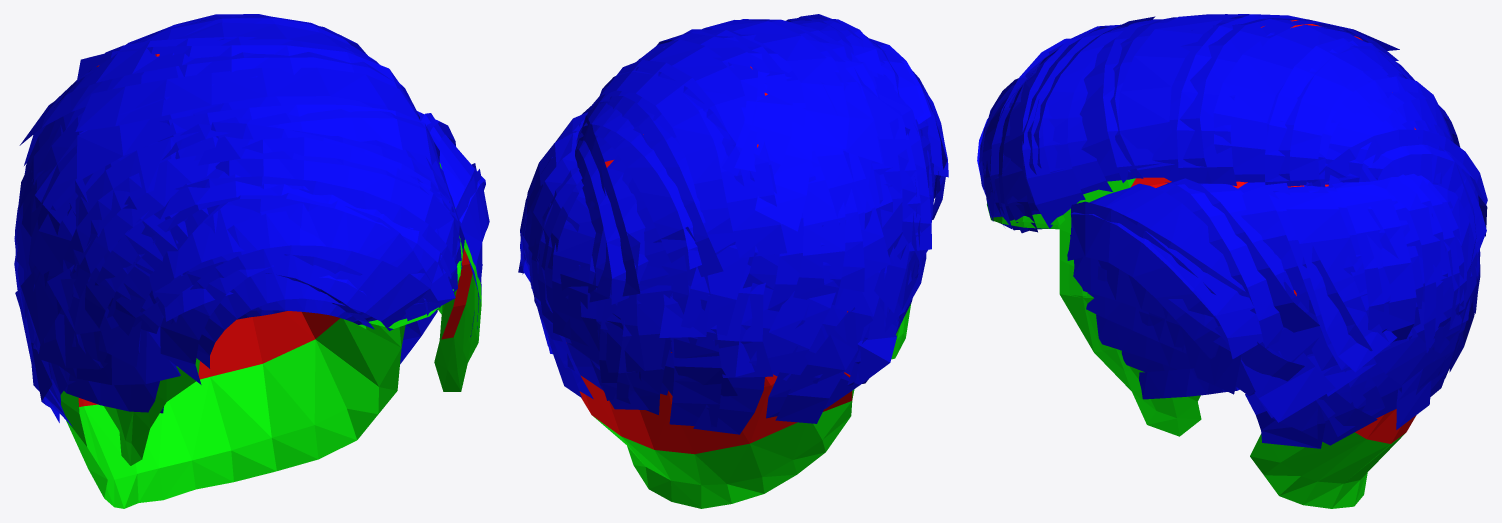
Rendered from hair_002.obj.
3 renders of one model, left to right at view 1: azimuth 30°, elevation 25°; view 2: azimuth 150°, elevation 25°; view 3: azimuth 270°, elevation 25°, orthographic. The views are drawn at different scales.
Bounding box in the file's own units: 19.68 × 22.28 × 22.5.
